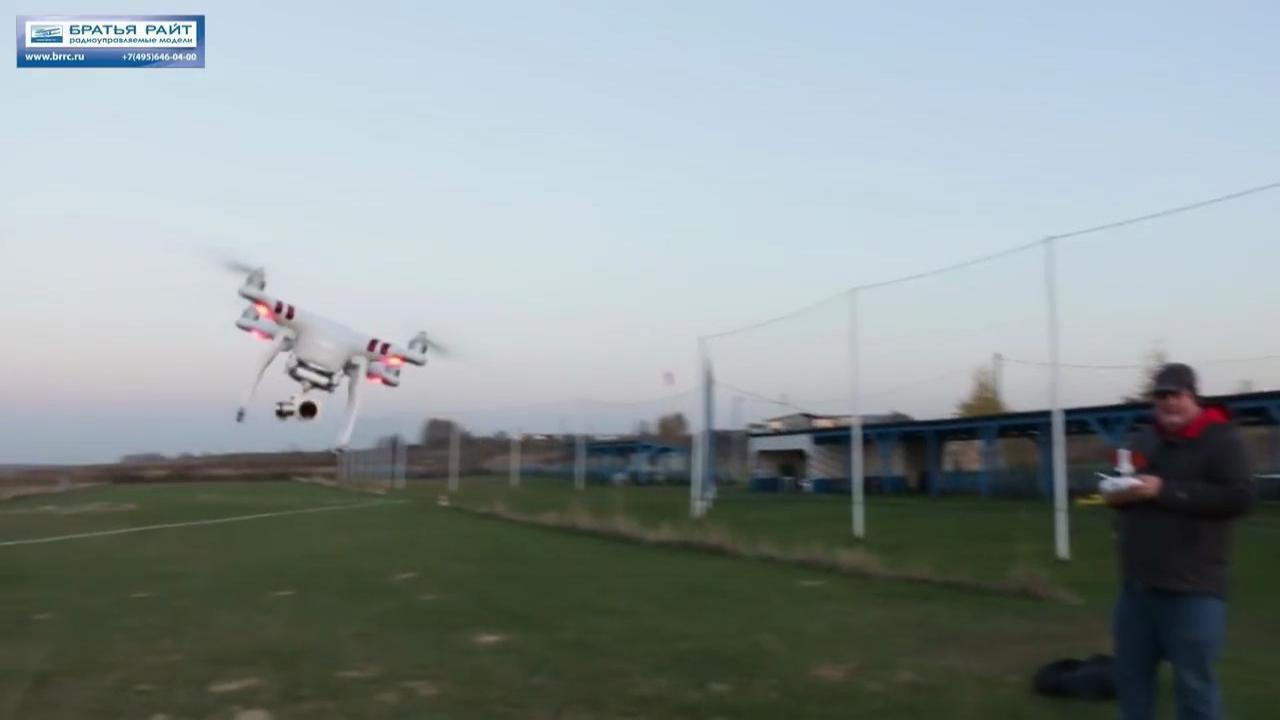Drone: (199, 246, 466, 461)
